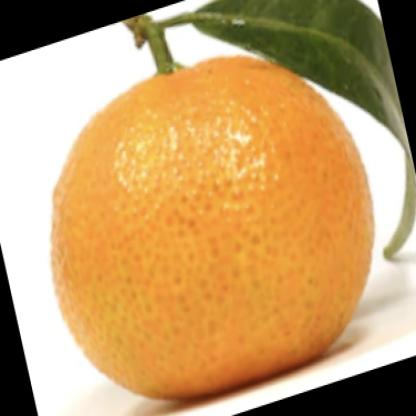fresh: (57, 54, 364, 406)
